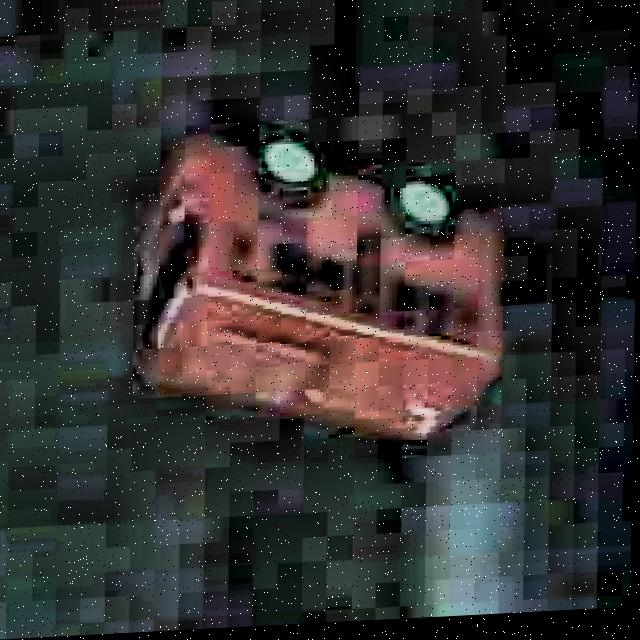bus: (119, 94, 517, 468)
